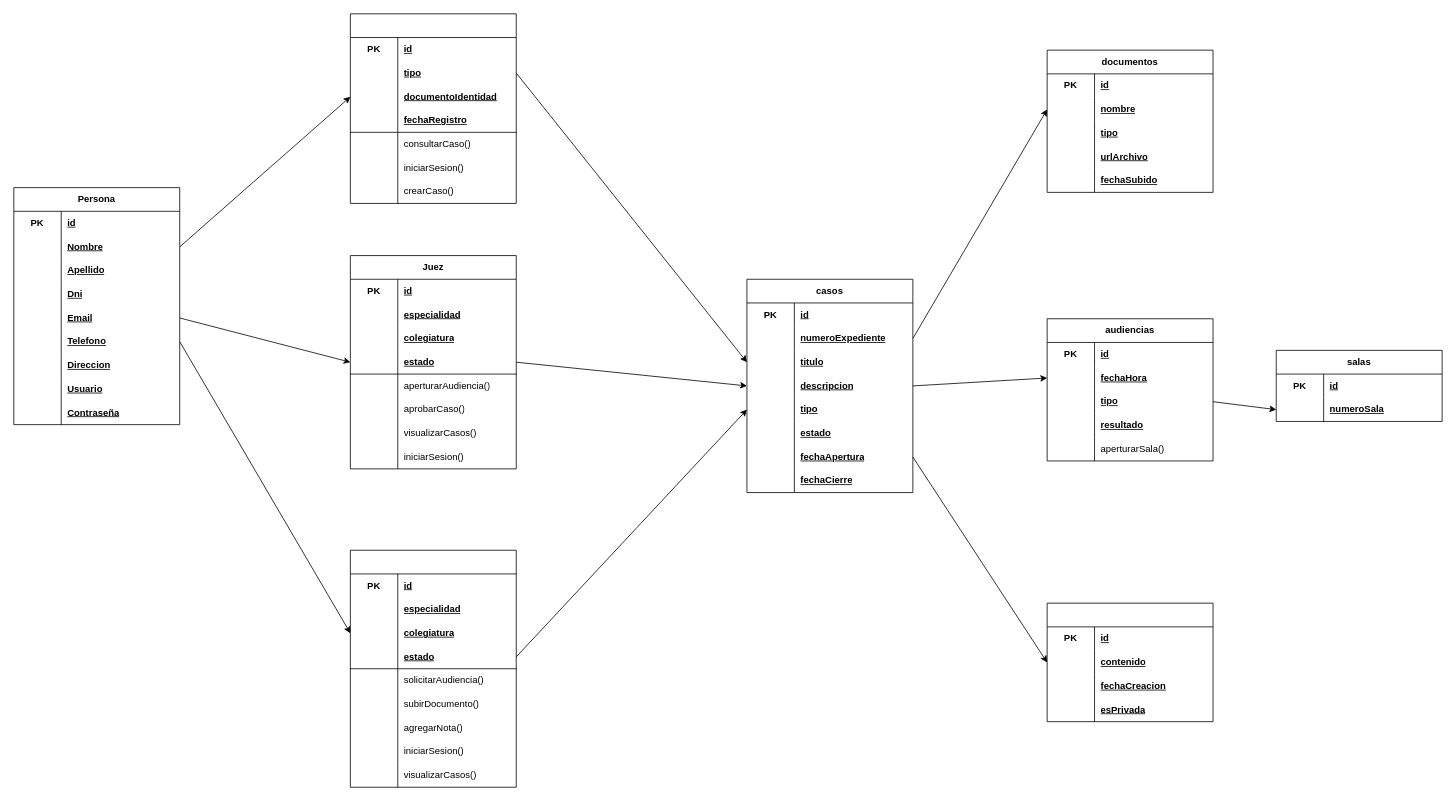
Some shapes in this 1456 by 801 pixel diagram are drawn without their labels. Each missing label, with the box of its shape:
abogados: (350, 549, 516, 787)
clientes: (350, 13, 516, 203)
notas: (1046, 602, 1213, 722)
